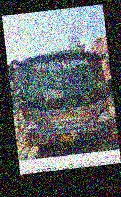bus: (11, 46, 115, 151)
